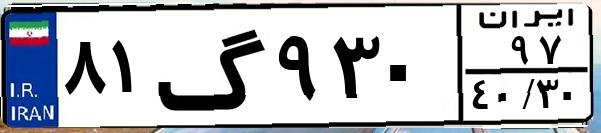0: (385, 28, 445, 110), (560, 70, 590, 125), (495, 70, 520, 125)
1: (110, 28, 156, 98)
3: (330, 28, 385, 110), (535, 70, 560, 125)
4: (470, 70, 495, 125)
7: (537, 27, 568, 80)
8: (57, 26, 110, 100)
9: (270, 28, 330, 110), (508, 27, 537, 80)
گ: (156, 12, 270, 120)
